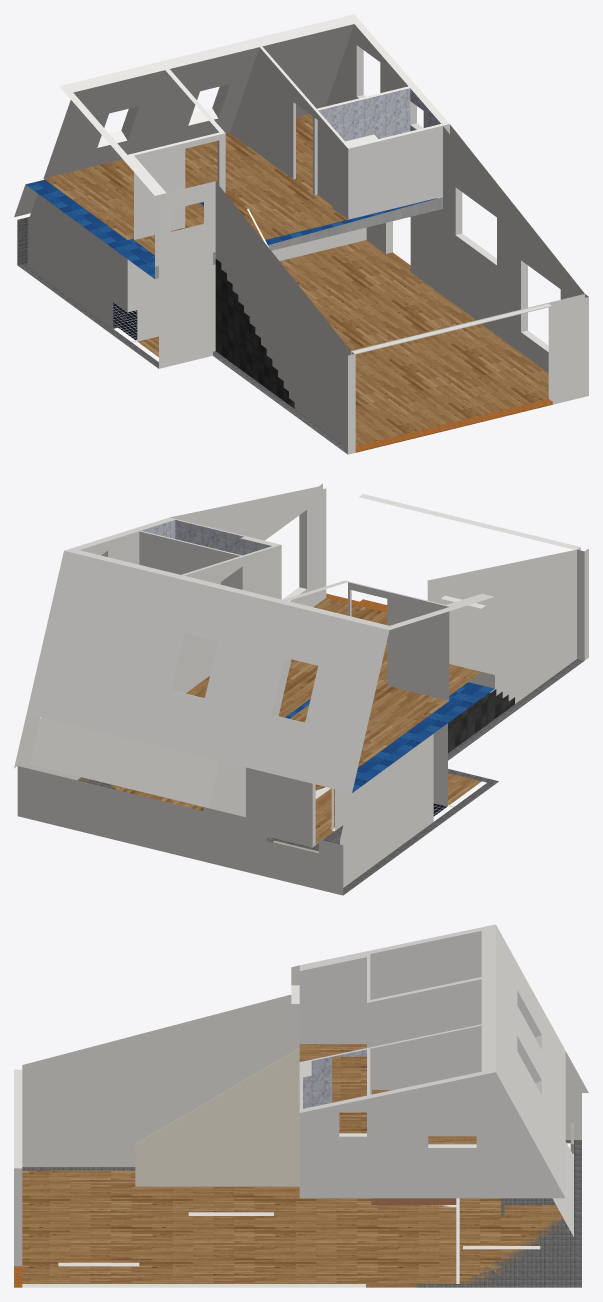
File: structure.glb
3 renders of one model, top to bottom at view 1: azimuth 30°, elevation 25°; view 2: azimuth 150°, elevation 25°; view 3: azimuth 270°, elevation 25°, orthographic. The views are drawn at different scales.
Parts seen in each view (by area): view 1: structure_rez, structure_etage, rez__escalier; view 2: structure_etage, structure_rez, rez__escalier; view 3: structure_rez, structure_etage, rez__cloison.
Part boxes in pixels (box(x1,y1,x2,y2)): structure_rez: box(14, 124, 588, 454); structure_etage: box(26, 14, 449, 278); rez__escalier: box(215, 259, 294, 408); structure_etage: box(26, 517, 494, 793); structure_rez: box(14, 483, 588, 895); rez__escalier: box(448, 689, 514, 752); structure_rez: box(14, 965, 588, 1287); structure_etage: box(299, 924, 565, 1198); rez__cloison: box(135, 1048, 299, 1186).
Bounding box in the file's own units: 8.53 × 5.8 × 14.03.
17 materials, 12 textured.
